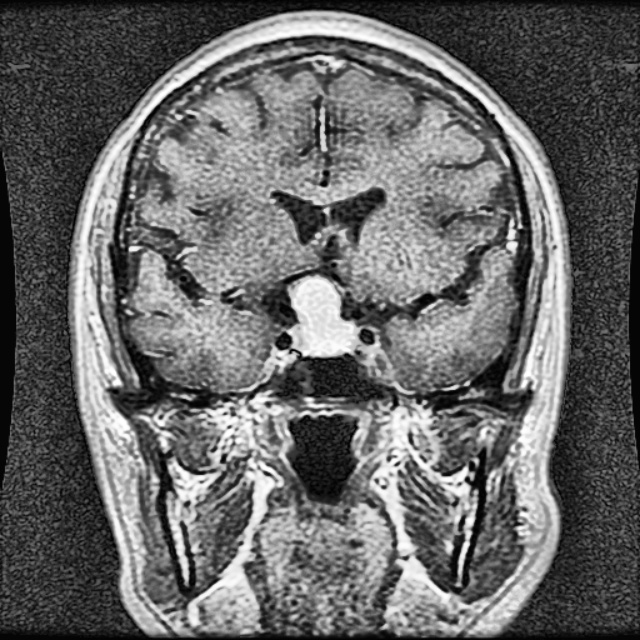Pituitary: (289, 274, 355, 355)
